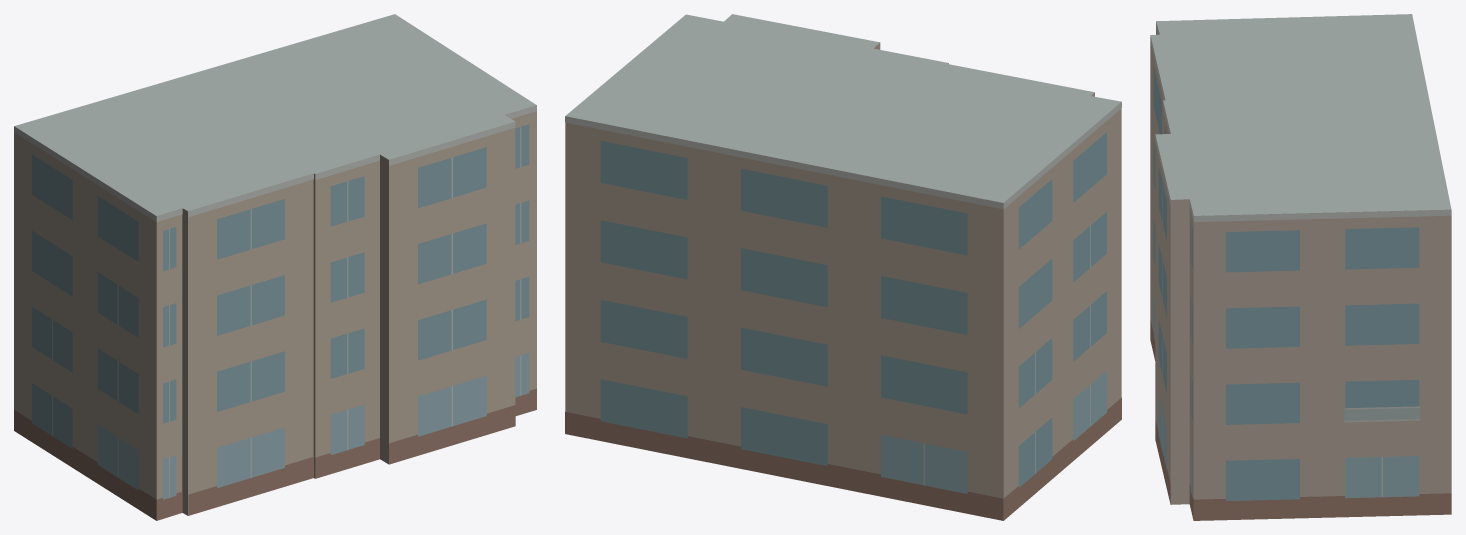
Rendered from survey-upis-32822506.glb.
3 views of the same model, side by side, from view 1: azimuth 30°, elevation 25°; view 2: azimuth 150°, elevation 25°; view 3: azimuth 270°, elevation 25° (orthographic). The views are drawn at different scales.
Visible parts, largest first — view 1: survey-upis-32822506.tmp; view 2: survey-upis-32822506.tmp; view 3: survey-upis-32822506.tmp.
Part boxes in pixels (box(x1,y1,x2,y2)): survey-upis-32822506.tmp: box(14, 14, 536, 520); survey-upis-32822506.tmp: box(565, 14, 1121, 520); survey-upis-32822506.tmp: box(1150, 14, 1451, 520).
Size of the model in its own units: 17.34 by 12.2 by 10.93.
